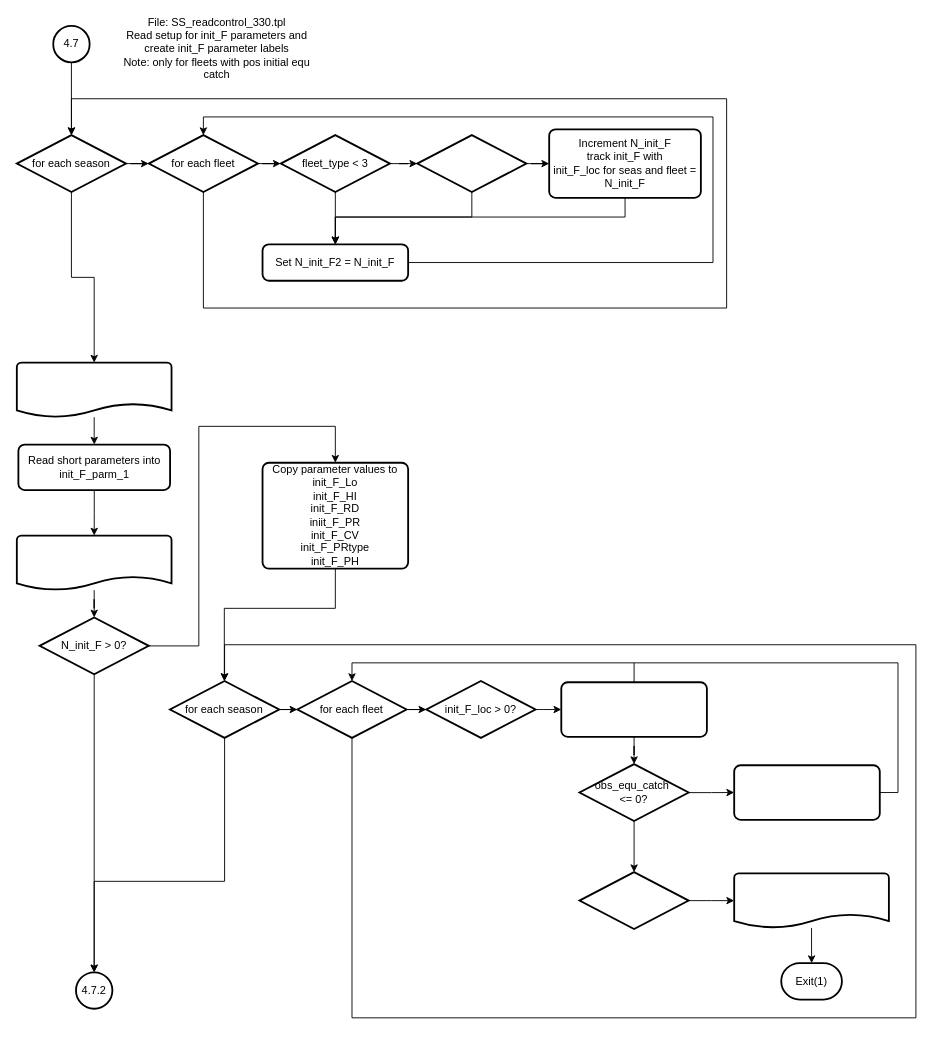
Some shapes in this 939 by 1041 pixel diagram are drawn without their labels. The centre of each missing label's shape, as x and y in pixels:
Increment N_Warn Output warning: (811,900)
Increment ParCount add ParmLabel "InitF_seas_(s)_flt_(f)(name)": (633,709)
init_F_RD <= 0?: (633,900)
obs_equ_catch for season and fleet != 0: (471,163)
Output init_F_parm_1 to echoinput: (93,562)
Output N_inif_F to echoinput: (93,389)
Set init_F_RD = 0 Set init_F_PH = -1: (806,792)
